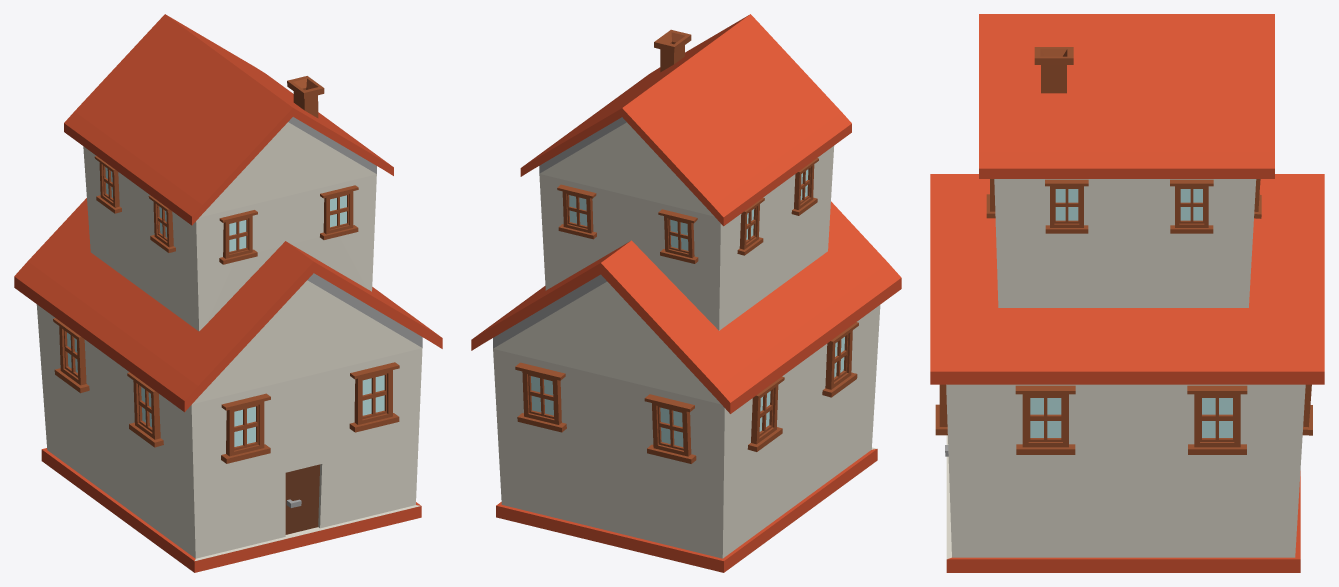
File: casa3.glb
3 views of the same model, side by side, from view 1: azimuth 30°, elevation 25°; view 2: azimuth 150°, elevation 25°; view 3: azimuth 270°, elevation 25° (orthographic). The views are drawn at different scales.
Visible parts, largest first — view 1: House3_Cube.034; view 2: House3_Cube.034; view 3: House3_Cube.034.
Part boxes in pixels (x1,y1,x2,y2): House3_Cube.034: (14, 14, 442, 572); House3_Cube.034: (471, 14, 901, 572); House3_Cube.034: (930, 14, 1324, 572).
Size of the model in its own units: 1.25 by 1.99 by 1.44.
1 material, 1 textured.
